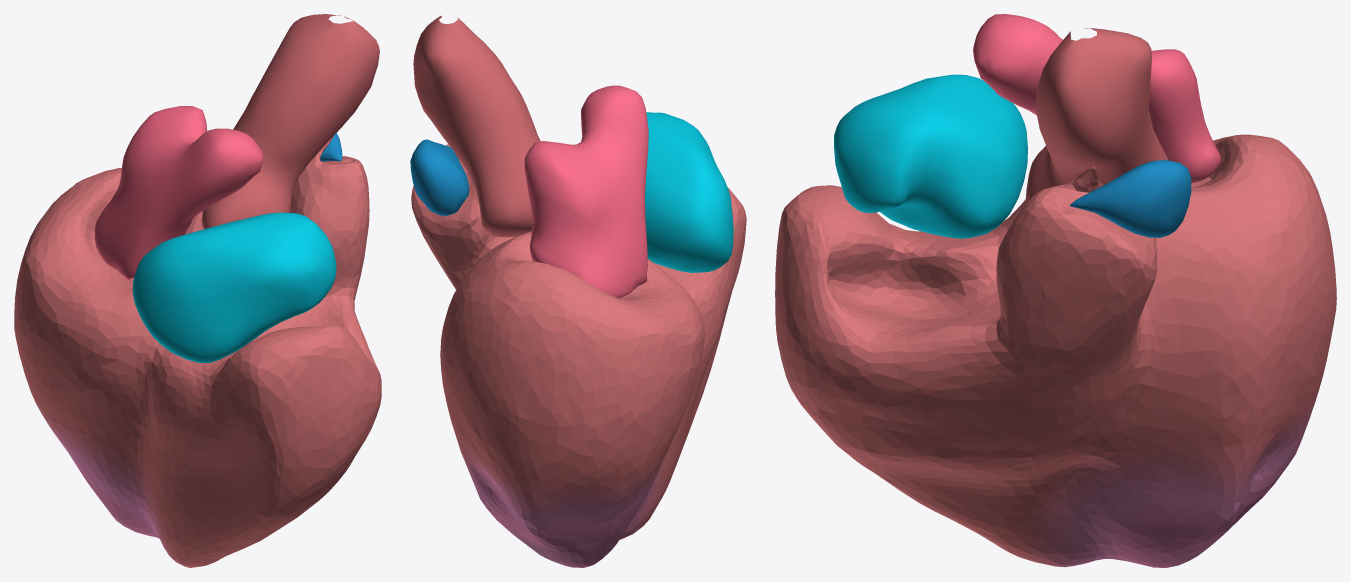
The model's file is frame_1.glb.
3 views of the same model, side by side, from view 1: azimuth 30°, elevation 25°; view 2: azimuth 150°, elevation 25°; view 3: azimuth 270°, elevation 25° (orthographic). The views are drawn at different scales.
Visible parts, largest first — view 1: Renderer Node; view 2: Renderer Node; view 3: Renderer Node.
Part boxes in pixels (bbox=[...]): Renderer Node: bbox=[14, 14, 381, 567]; Renderer Node: bbox=[410, 16, 746, 567]; Renderer Node: bbox=[775, 14, 1336, 567].
Size of the model in its own units: 102 by 158 by 128.
